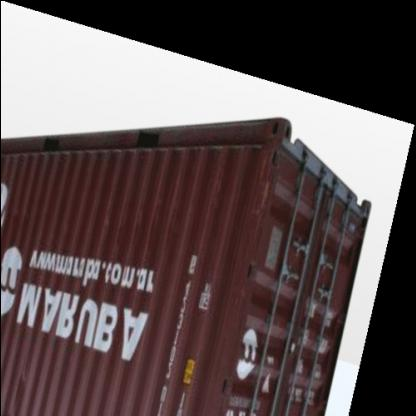Damage: (102, 197, 173, 279), (250, 152, 297, 230)
